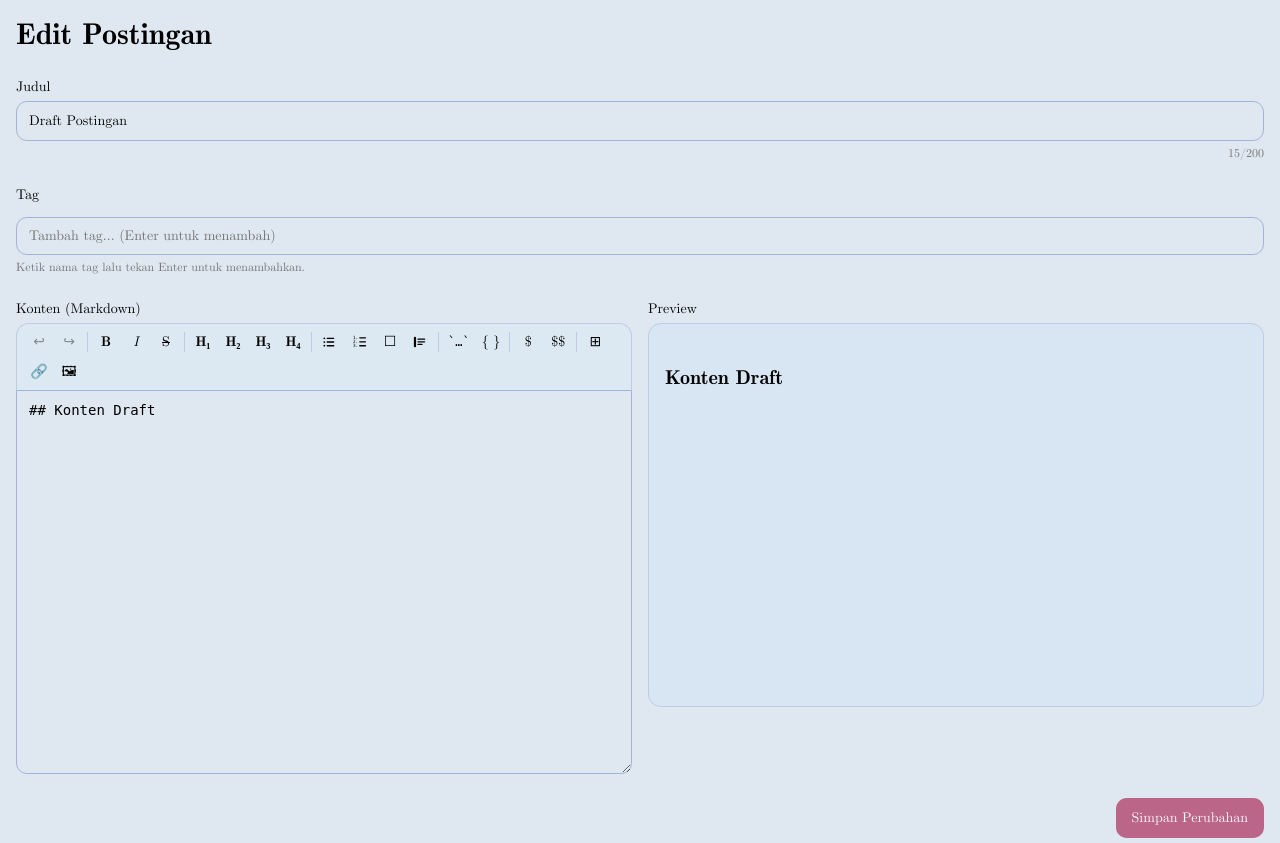
EditPostPage › shows server error message when update API returns error
(page scrolled)
Expected: the field labelled "Judul" is shown, [16, 101, 1264, 141]
Click the button "Simpan Perubahan" at (1190, 818), box [1116, 798, 1264, 838]
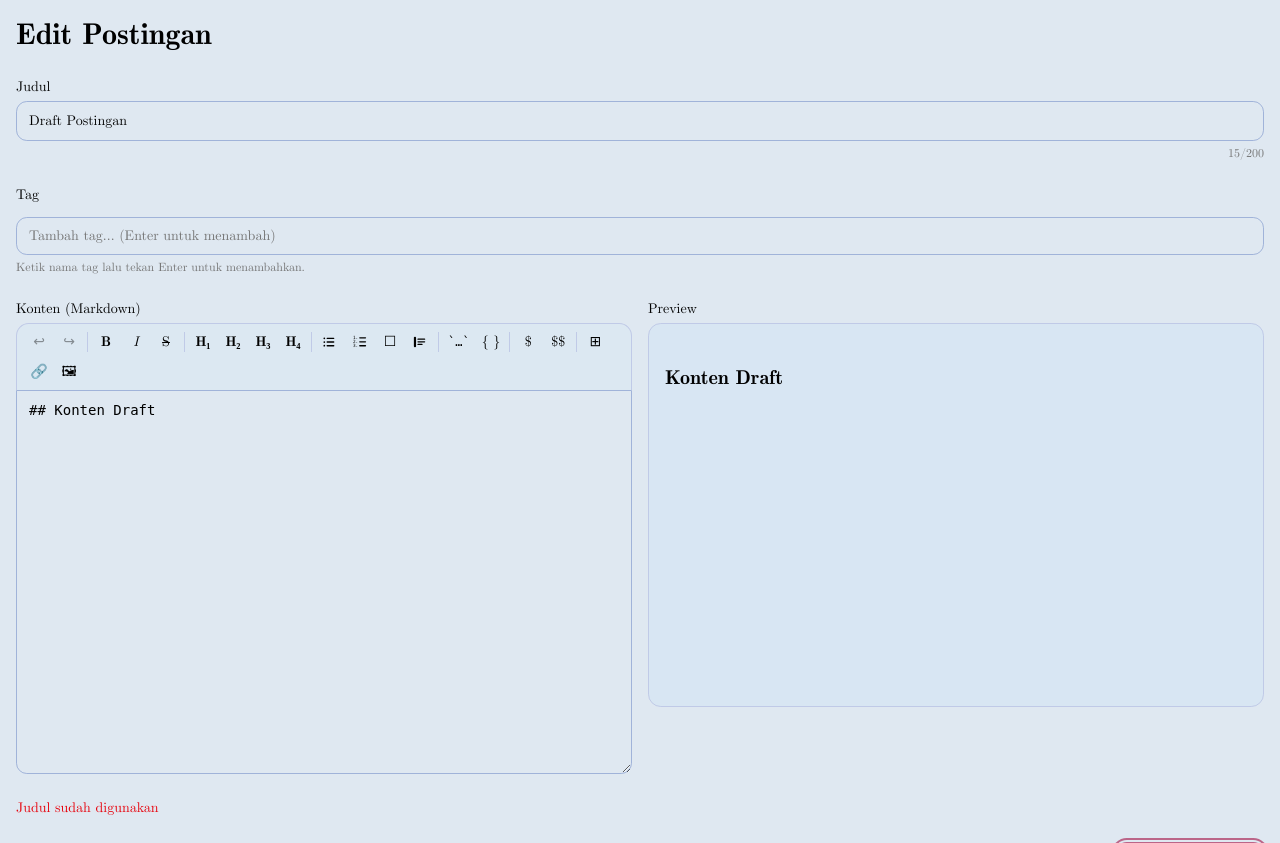
Now the text "Judul sudah digunakan" is shown, box [16, 801, 158, 815]
